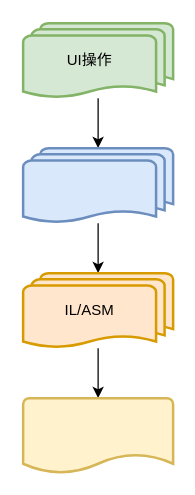
This 195x495 diagram has some shape labels left out. Here are the shapes that lost their labels. From the top down, the box of each, then its label:
(21, 146, 174, 224): Su Code
(21, 396, 174, 474): EXE/DLL
